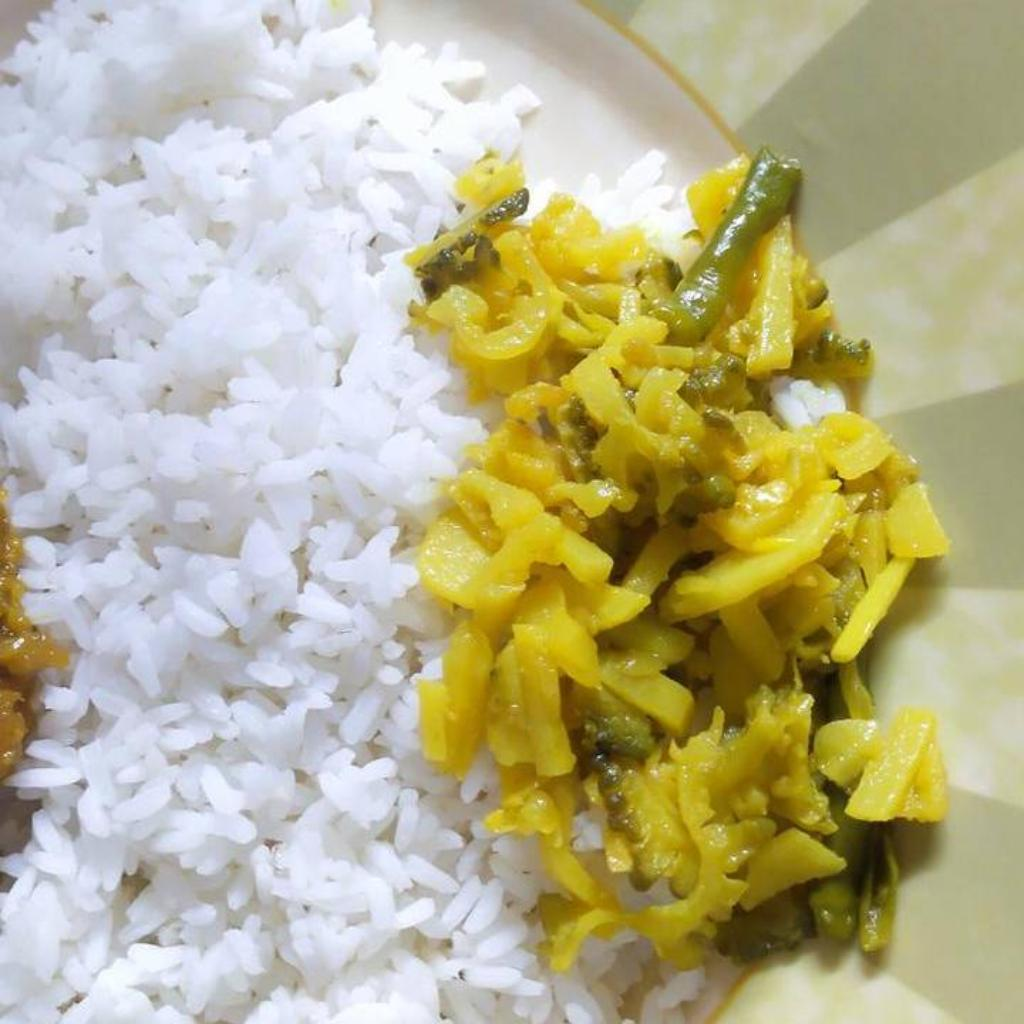rice: (5, 0, 626, 1023)
vaji: (404, 155, 952, 968)
